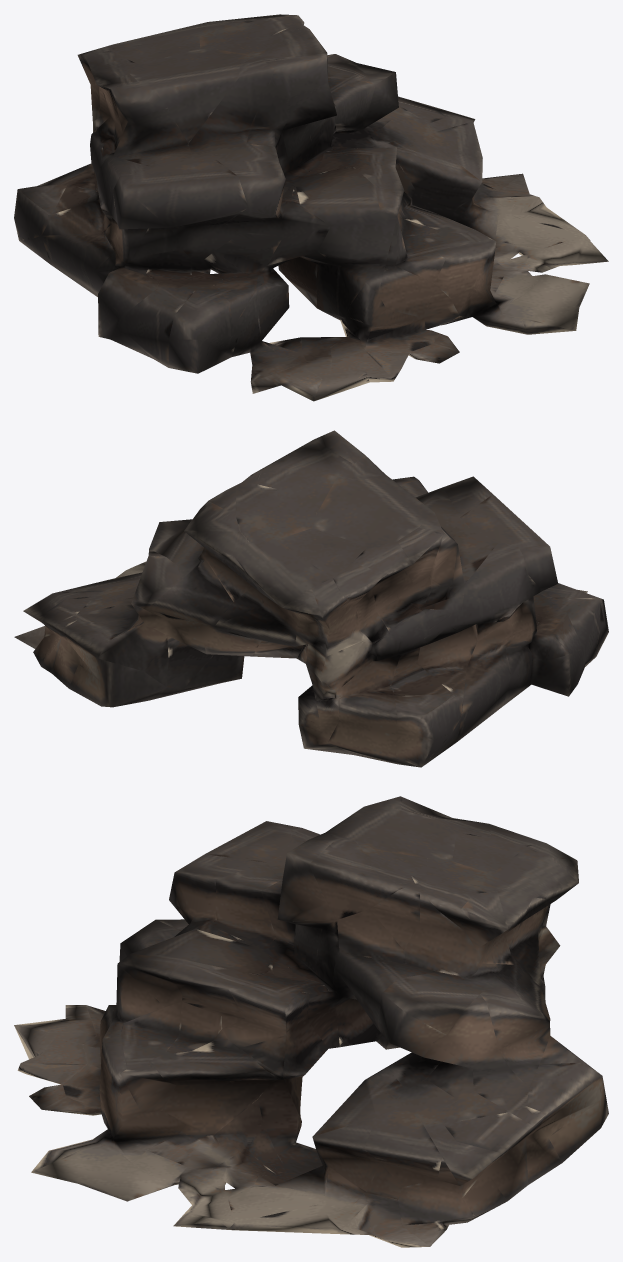
File: scattered_books.glb
3 views of the same model, one above another, from view 1: azimuth 30°, elevation 25°; view 2: azimuth 150°, elevation 25°; view 3: azimuth 270°, elevation 25° (orthographic). The views are drawn at different scales.
Size of the model in its own units: 1.97 by 0.9044 by 1.85.
Materials: 1 (1 with a texture image).
